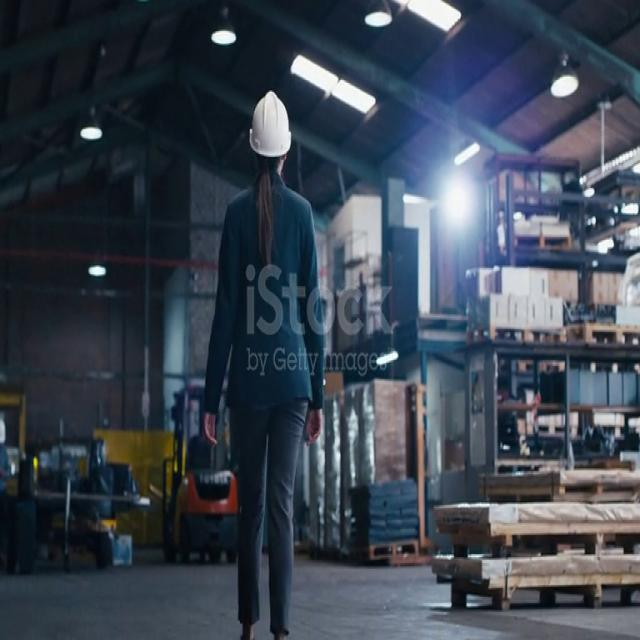capacete: (245, 82, 300, 182)
